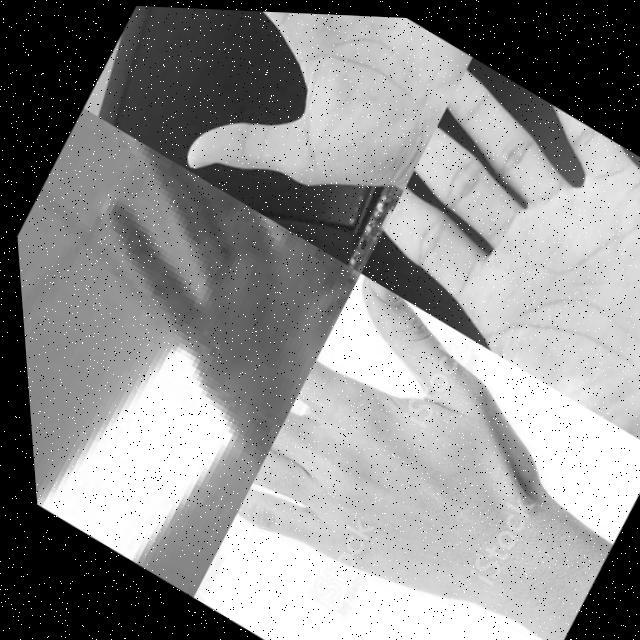no-gloves: (210, 265, 624, 640), (7, 121, 369, 490), (343, 48, 640, 446), (76, 2, 484, 274)
